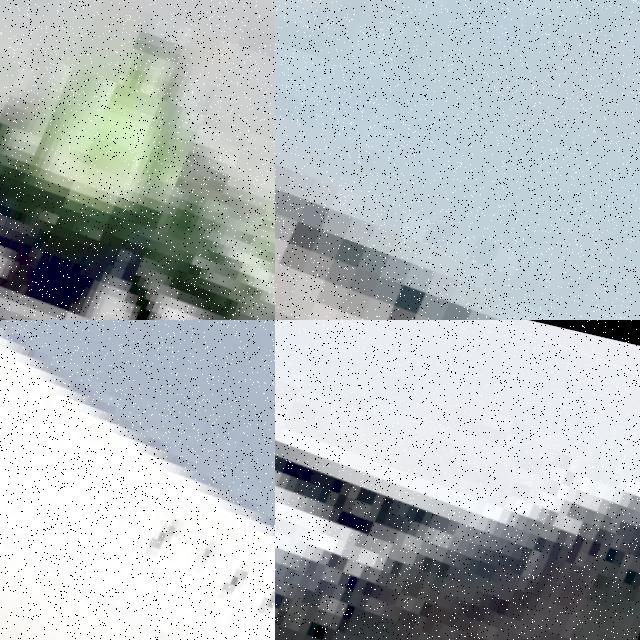drone: (275, 0, 640, 320), (275, 320, 640, 640), (0, 0, 275, 320), (0, 320, 275, 640)
